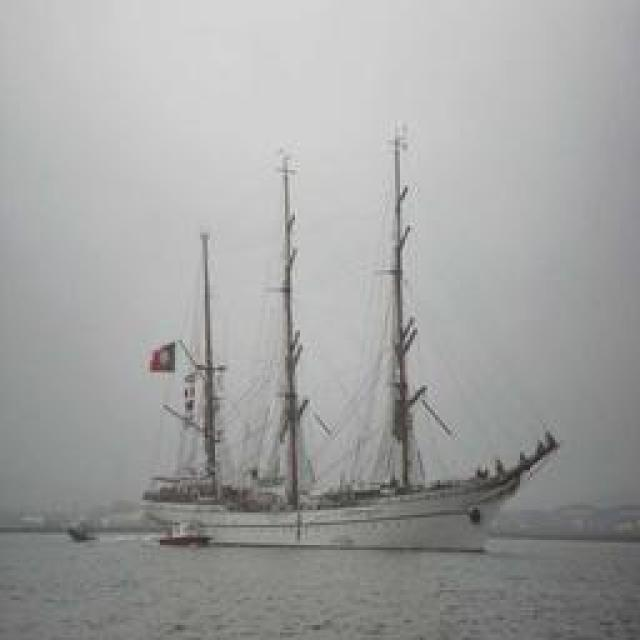Ship: (133, 116, 568, 539)
